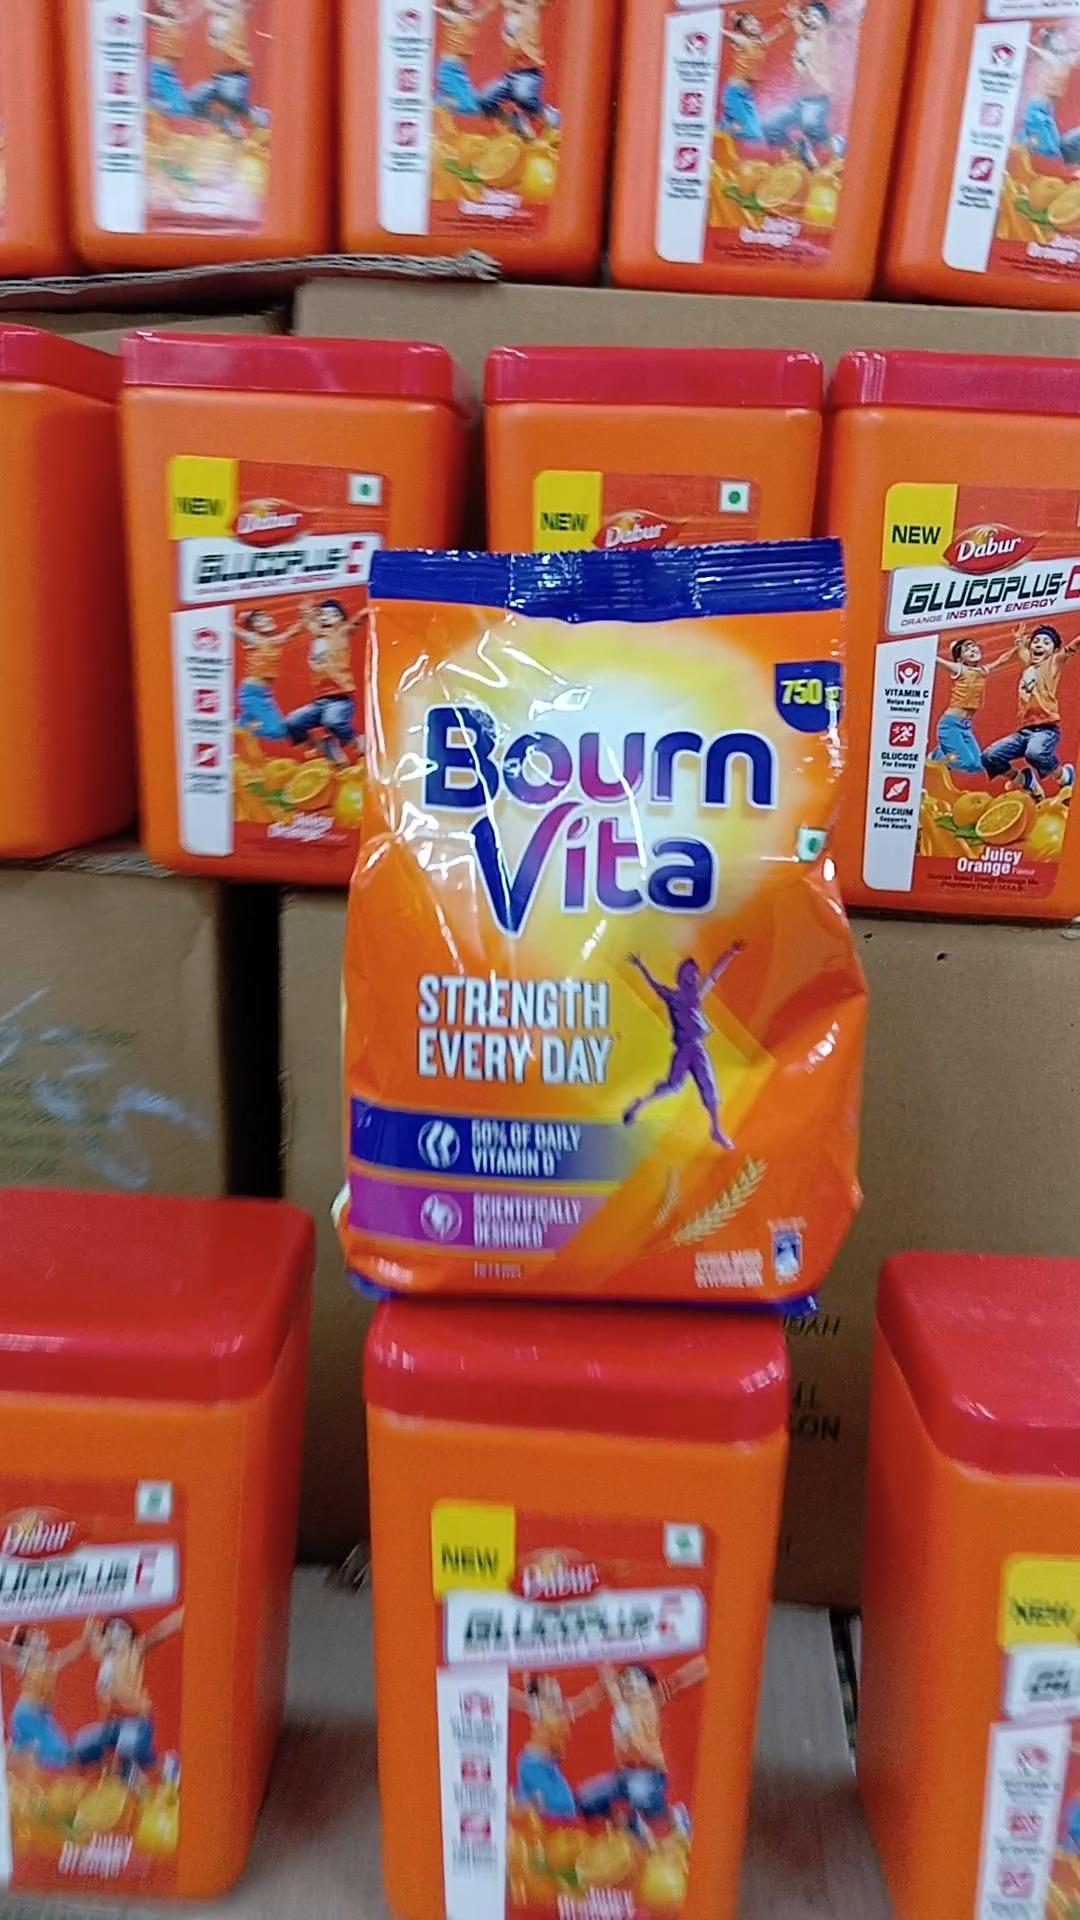BOURN_VITA_750_G_POUCH: (368, 546, 832, 1333)
